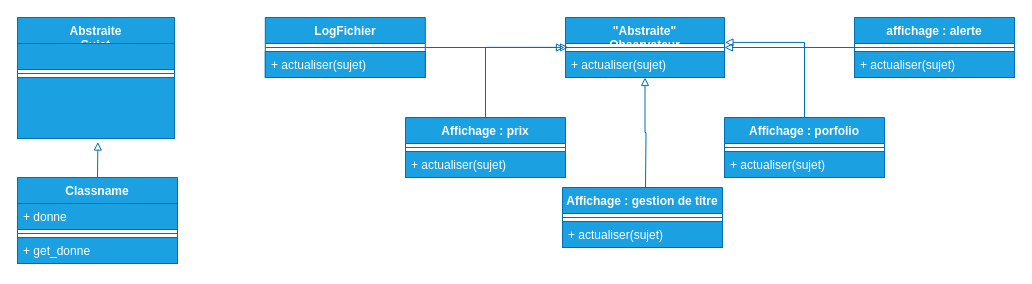
The diagram is 1032 pixels wide and 284 high, and some of its shapes have lost their labels. The shapes that lost their labels are listed below. From the top down, each one's centre as x and y in pixels, then its label:
the point at 95,56: # _observateur :_liste
the point at 95,107: + abonner(obs) + desabonner(obs) + notifier()
